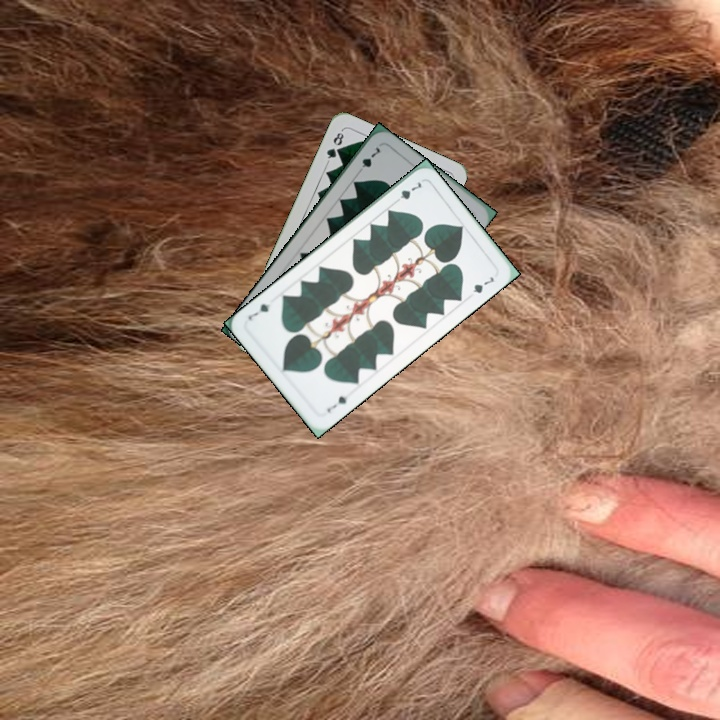G7: (389, 177, 424, 207), (354, 143, 383, 177), (323, 392, 350, 415)
G8: (322, 126, 346, 165)
